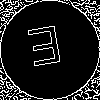E: (25, 25, 66, 76)
